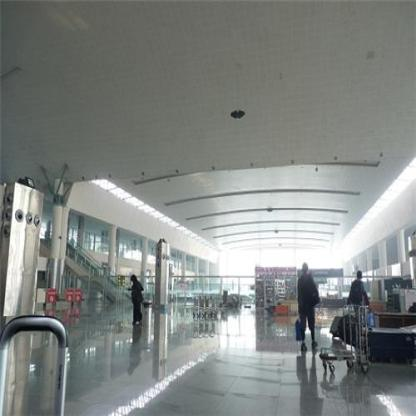airport-trolley: (316, 301, 373, 375)
